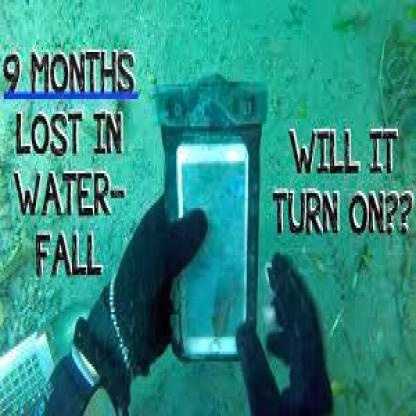cellphone: (175, 139, 248, 352)
